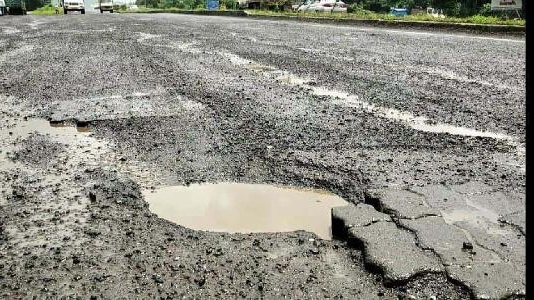pothole: (136, 172, 391, 243)
